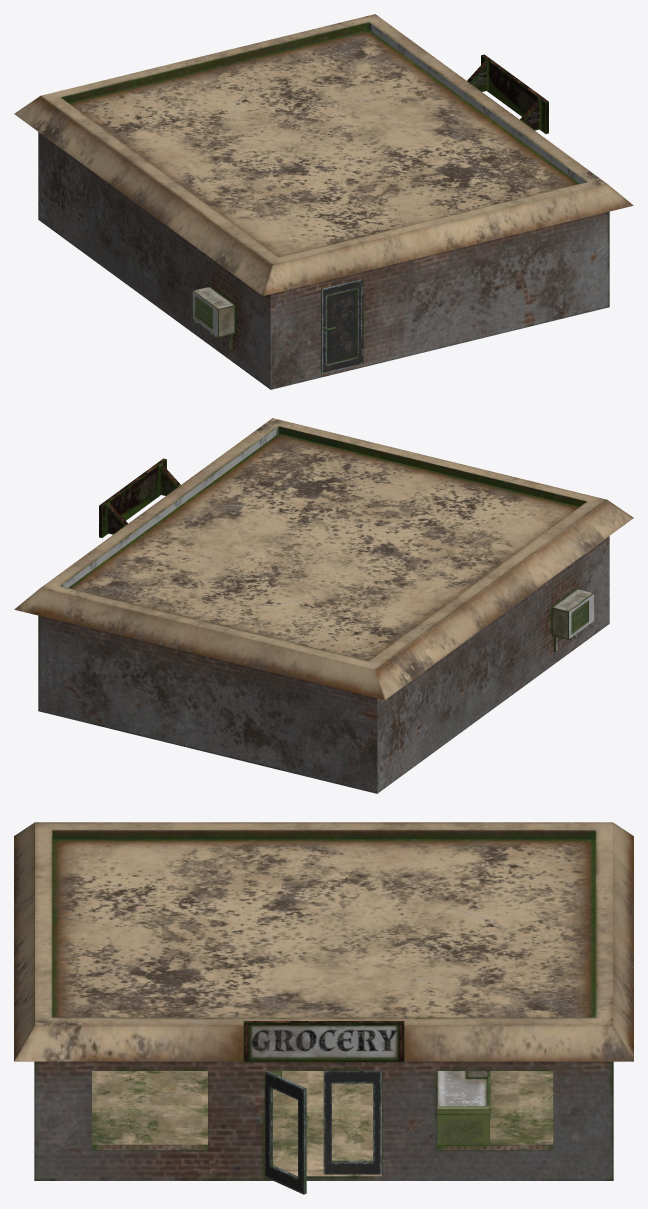
Rendered from adandoned_shop.fbx.
The picture shows the model from 3 angles, top to bottom: view 1: azimuth 30°, elevation 25°; view 2: azimuth 150°, elevation 25°; view 3: azimuth 270°, elevation 25°; orthographic projection. The views are drawn at different scales.
Visible parts, largest first — view 1: Cube, Cube.003, Cube.004, Cube.002; view 2: Cube, Cube.004, Cube.002; view 3: Cube, Cube.004, Cube.006, Cube.001, Cube.007.
Part boxes in pixels (bbox=[...]): Cube: bbox=[14, 14, 633, 389]; Cube.003: bbox=[321, 279, 363, 373]; Cube.004: bbox=[467, 54, 548, 133]; Cube.002: bbox=[192, 286, 235, 349]; Cube: bbox=[14, 418, 633, 793]; Cube.004: bbox=[99, 458, 180, 537]; Cube.002: bbox=[551, 589, 594, 652]; Cube: bbox=[14, 822, 633, 1180]; Cube.004: bbox=[243, 1021, 404, 1062]; Cube.006: bbox=[437, 1071, 490, 1144]; Cube.001: bbox=[323, 1071, 381, 1174]; Cube.007: bbox=[265, 1071, 306, 1194].
Bounding box in the file's own units: 1421 × 486 × 1586.
